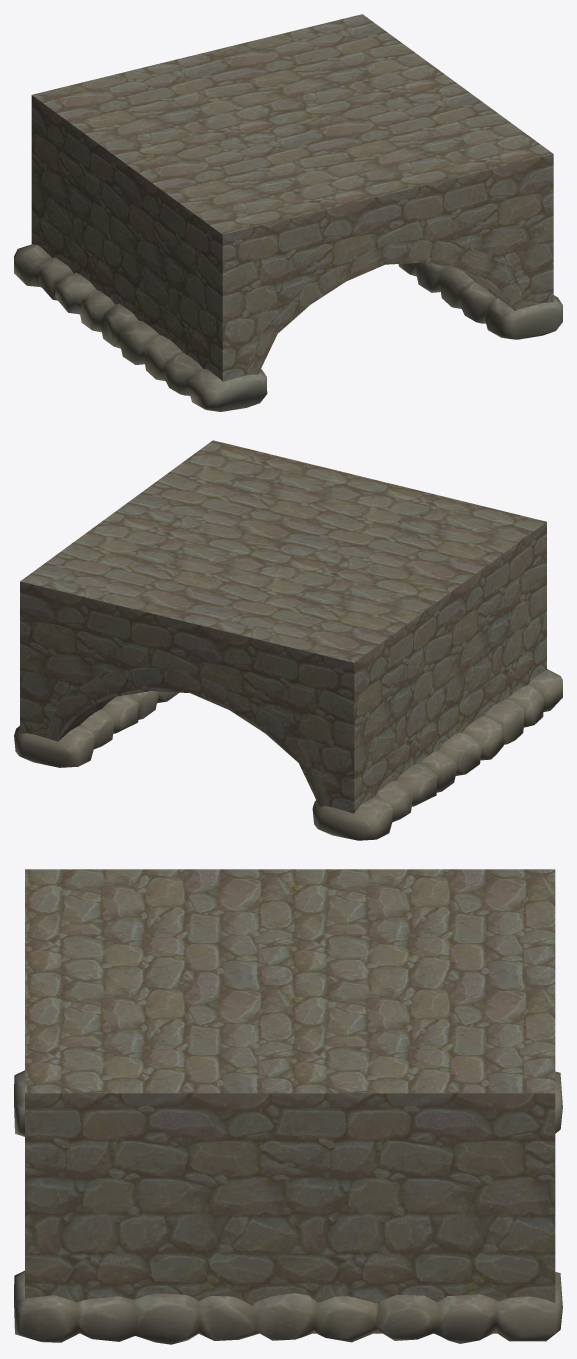
Rendered from SM_FW01_Ruins_Int_Ceiling_B_4x4_Corridor_01.fbx.
3 views of the same model, one above another, from view 1: azimuth 30°, elevation 25°; view 2: azimuth 150°, elevation 25°; view 3: azimuth 270°, elevation 25° (orthographic). The views are drawn at different scales.
Parts seen in each view (by area): view 1: SM_FW01_Ruins_Int_Ceiling_B_4x4_Corridor_01, SM_FW01_Ruins_Int_Ceiling_B_4x4_Corridor_01_LOD0; view 2: SM_FW01_Ruins_Int_Ceiling_B_4x4_Corridor_01, SM_FW01_Ruins_Int_Ceiling_B_4x4_Corridor_01_LOD0; view 3: SM_FW01_Ruins_Int_Ceiling_B_4x4_Corridor_01, SM_FW01_Ruins_Int_Ceiling_B_4x4_Corridor_01_LOD0.
Boxes of the visible parts, x1,y1,x2,y2 form: SM_FW01_Ruins_Int_Ceiling_B_4x4_Corridor_01: (31,14,553,381); SM_FW01_Ruins_Int_Ceiling_B_4x4_Corridor_01_LOD0: (14,244,562,411); SM_FW01_Ruins_Int_Ceiling_B_4x4_Corridor_01: (20,440,546,813); SM_FW01_Ruins_Int_Ceiling_B_4x4_Corridor_01_LOD0: (14,669,562,840); SM_FW01_Ruins_Int_Ceiling_B_4x4_Corridor_01: (25,869,555,1333); SM_FW01_Ruins_Int_Ceiling_B_4x4_Corridor_01_LOD0: (14,1070,562,1344).
Size of what is drawn, in the model's own units: 4.44 by 2.07 by 4.14.
